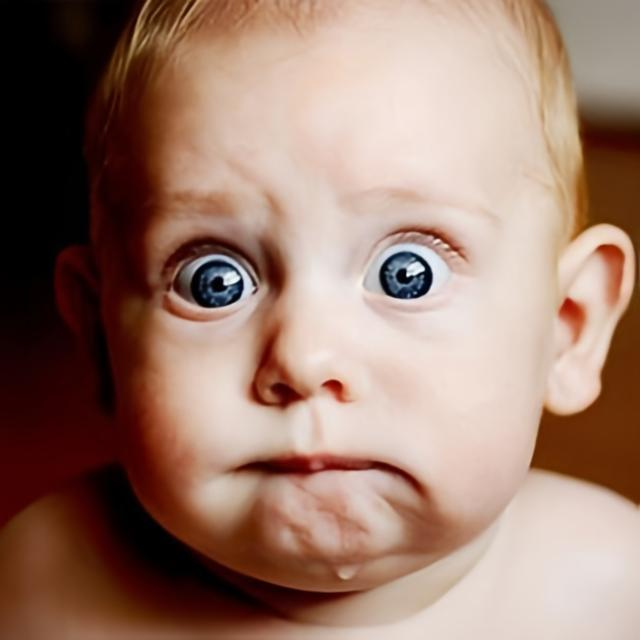fear: (83, 0, 559, 592)
